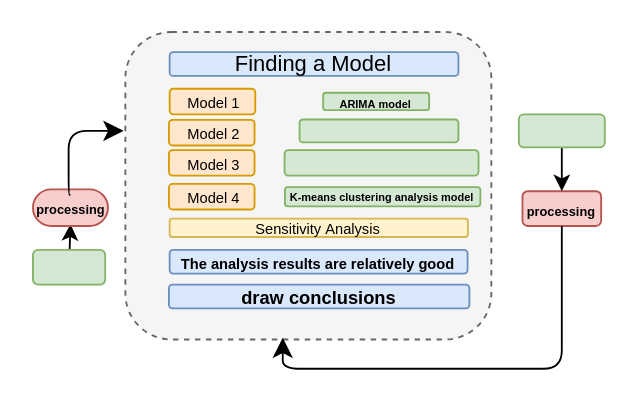
Some shapes in this 637 by 419 pixel diagram are drawn without their labels. The shapes that lost their labels are listed below. From the top down, each one's centre as x and y in pixels, then its label:
the point at 378,130: Correlation Analysis Model
the point at 561,130: Lexical Data
the point at 381,162: BP neural network prediction model
the point at 68,266: data
